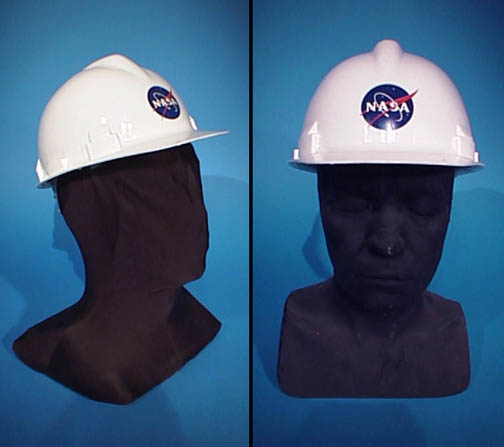person hardhat: (287, 39, 484, 306), (31, 53, 229, 284)
